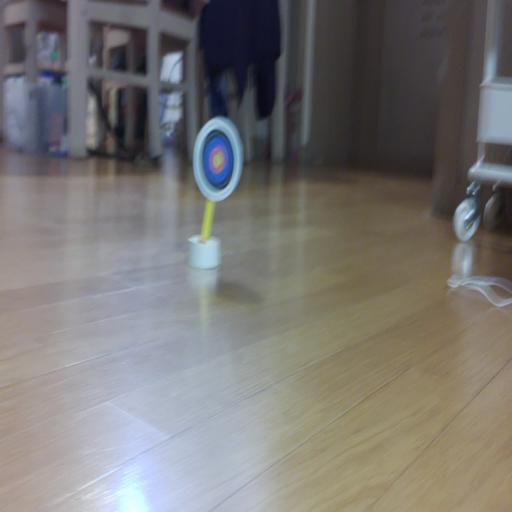target: (193, 117, 244, 202)
